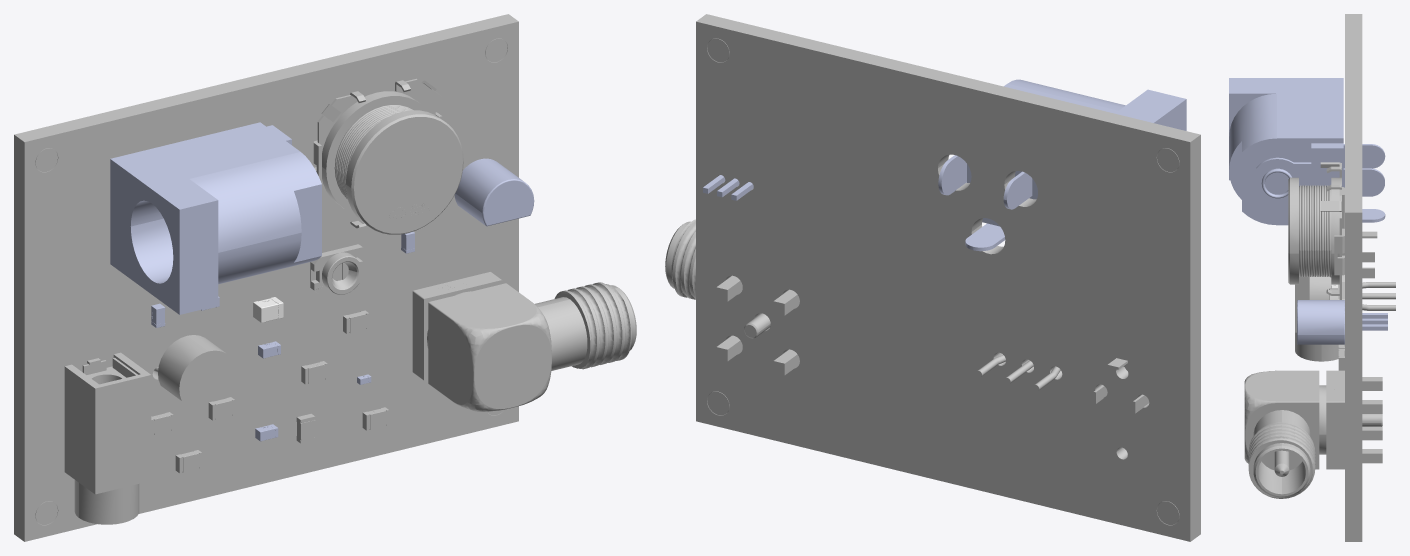
The model's file is pcb.backup.glb.
3 views of the same model, side by side, from view 1: azimuth 30°, elevation 25°; view 2: azimuth 150°, elevation 25°; view 3: azimuth 270°, elevation 25° (orthographic). The views are drawn at different scales.
Visible parts, largest first — view 1: empty_60, empty_7, empty_8, empty_27, empty_33, empty_57, empty_55, empty_25, empty_29, empty_28; view 2: empty_60, empty_7, empty_8, empty_55; view 3: empty_7, empty_8, empty_60, empty_27, empty_55, empty_33, empty_28, empty_57, empty_29, empty_30, empty_56.
Boxes of the visible parts, x1,y1,x2,y2 form: empty_60: [14, 14, 518, 541]; empty_7: [110, 122, 321, 314]; empty_8: [412, 272, 636, 411]; empty_27: [322, 91, 463, 234]; empty_33: [64, 352, 151, 524]; empty_57: [158, 335, 237, 400]; empty_55: [454, 158, 534, 226]; empty_25: [310, 244, 365, 295]; empty_29: [313, 91, 365, 228]; empty_28: [395, 78, 444, 119]; empty_60: [696, 14, 1200, 541]; empty_7: [938, 79, 1186, 251]; empty_8: [665, 219, 799, 375]; empty_55: [703, 175, 753, 200]; empty_7: [1229, 78, 1385, 225]; empty_8: [1244, 370, 1382, 498]; empty_60: [1345, 14, 1362, 541]; empty_27: [1288, 177, 1341, 284]; empty_55: [1297, 300, 1387, 344]; empty_33: [1295, 275, 1338, 361]; empty_28: [1320, 184, 1344, 299]; empty_57: [1309, 275, 1344, 299]; empty_29: [1320, 162, 1344, 277]; empty_30: [1362, 252, 1374, 278]; empty_56: [1362, 293, 1395, 299].
Size of the model in its own units: 49.62 by 33.97 by 15.6.
